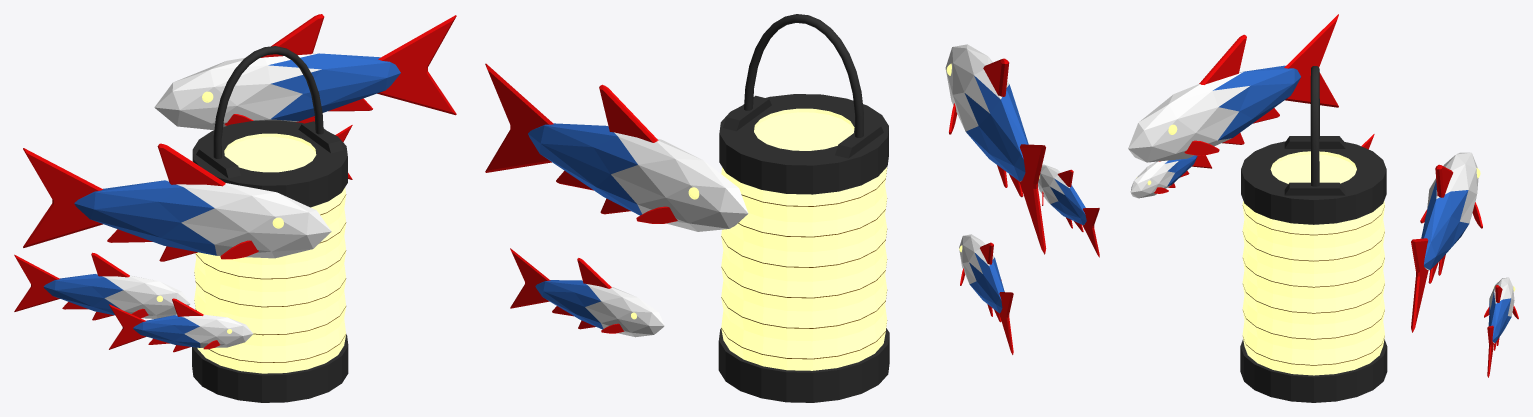
The model's file is lantern.glb.
3 renders of one model, left to right at view 1: azimuth 30°, elevation 25°; view 2: azimuth 150°, elevation 25°; view 3: azimuth 270°, elevation 25°, orthographic. The views are drawn at different scales.
Size of the model in its own units: 4.75 by 3.09 by 3.64.
